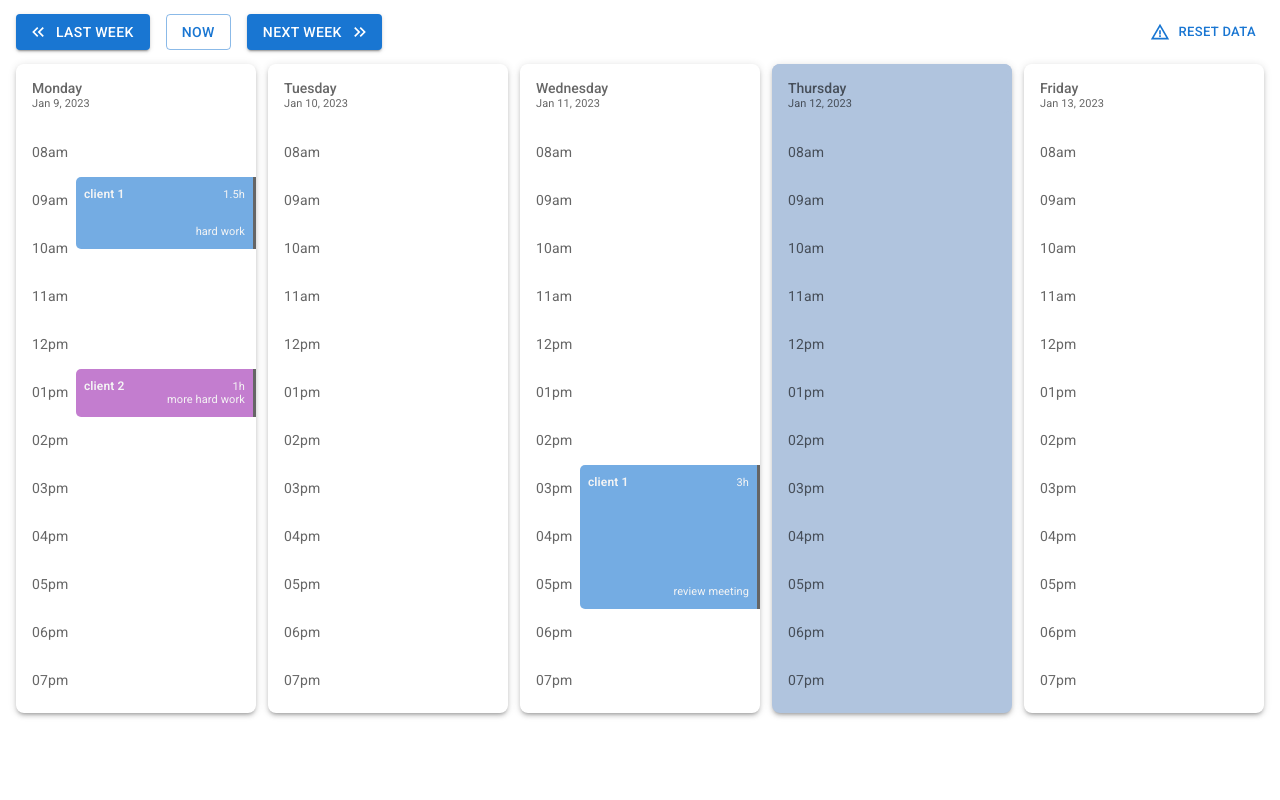
it: Calendar › renders the modal delete button on selecting entry
Click the text "client 1" next to "1.5" at (104, 194), box [84,184,124,202]
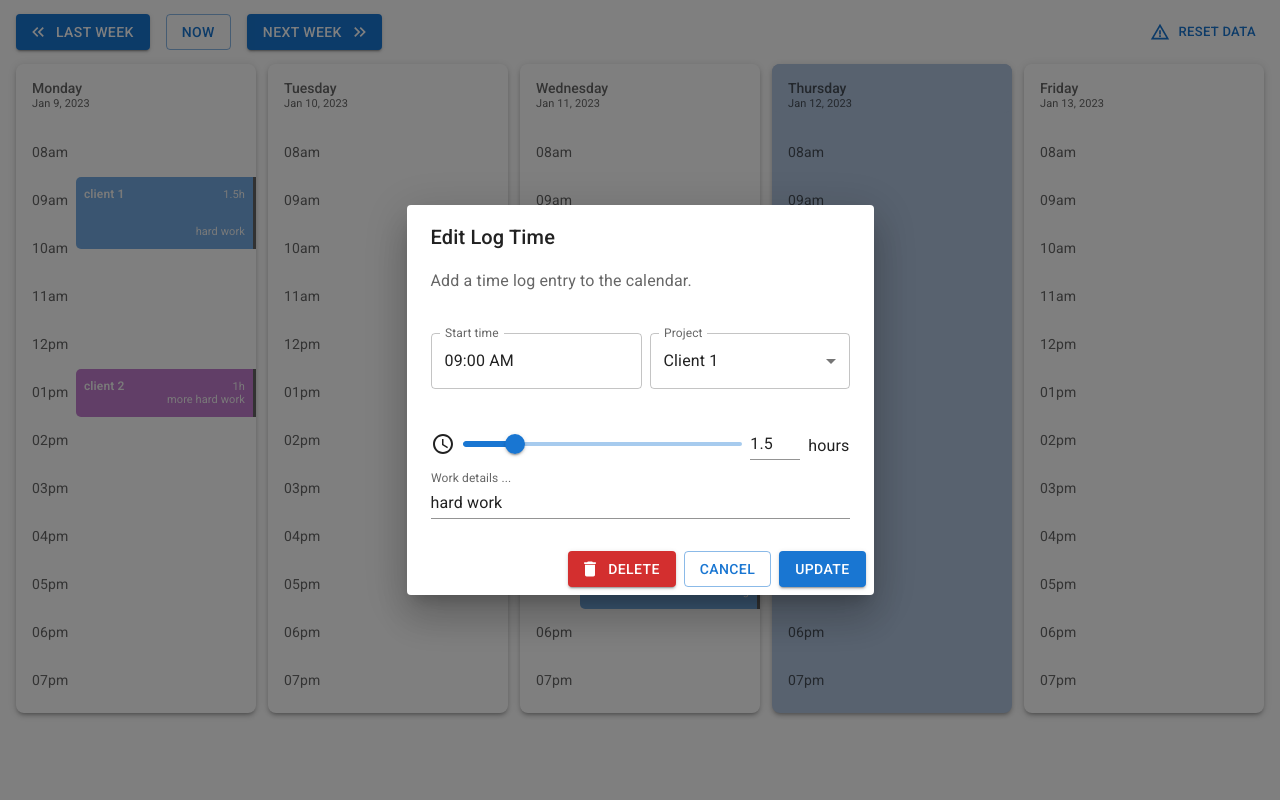
Now the button "Delete" is shown, box [568,551,676,587]
